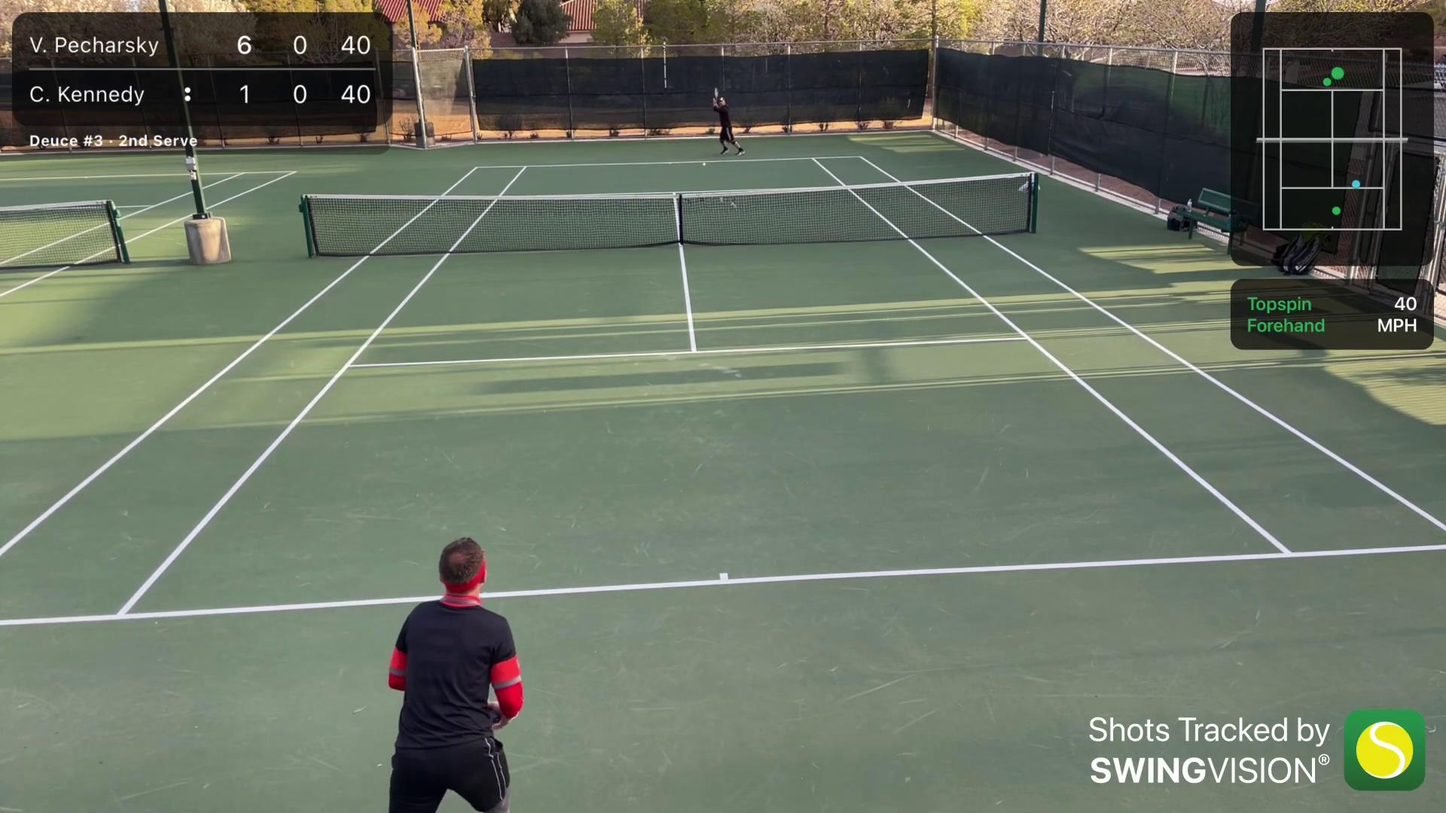ball: (700, 161, 706, 166)
